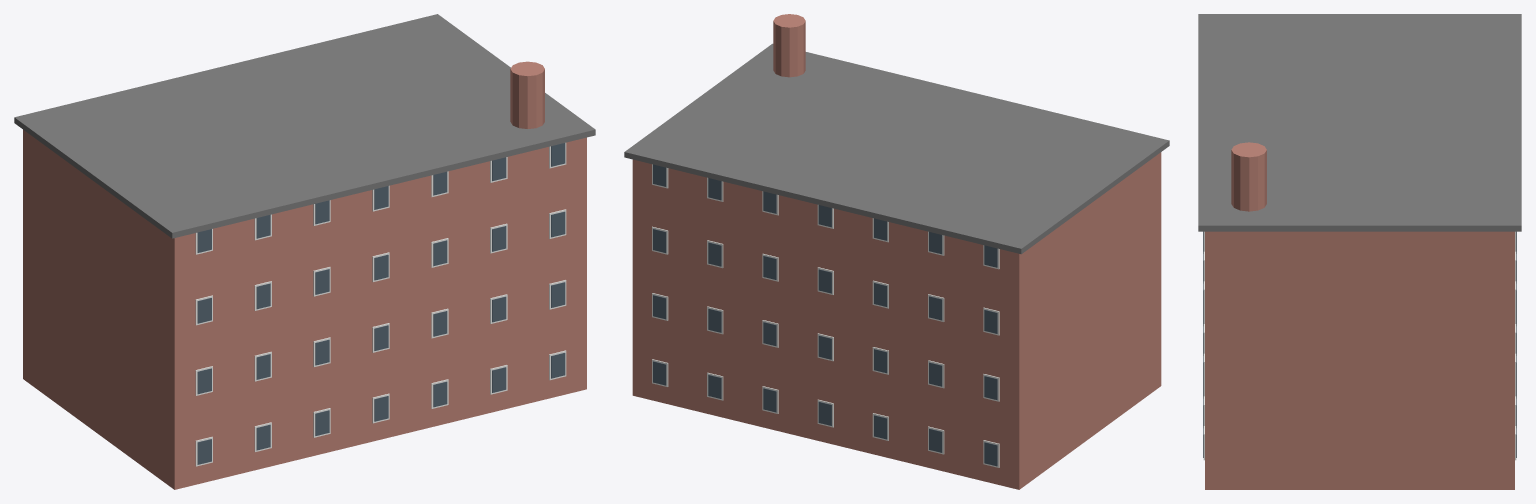
Rendered from brick_mill.glb.
The picture shows the model from 3 angles, left to right: view 1: azimuth 30°, elevation 25°; view 2: azimuth 150°, elevation 25°; view 3: azimuth 270°, elevation 25°; orthographic projection. The views are drawn at different scales.
Parts seen in each view (by area): view 1: mill_body, mill_cornice, mill_chimney; view 2: mill_body, mill_cornice, mill_chimney; view 3: mill_body, mill_cornice, mill_chimney.
Boxes of the visible parts, box(x1,y1,x2,y2) form: mill_body: box(23, 130, 586, 489); mill_cornice: box(14, 14, 595, 238); mill_chimney: box(510, 61, 544, 128); mill_body: box(632, 152, 1161, 489); mill_cornice: box(624, 43, 1169, 254); mill_chimney: box(773, 14, 805, 77); mill_body: box(1205, 231, 1514, 489); mill_cornice: box(1198, 14, 1521, 231); mill_chimney: box(1231, 142, 1266, 211).
Bounding box in the file's own units: 22.59 × 16 × 14.59.
